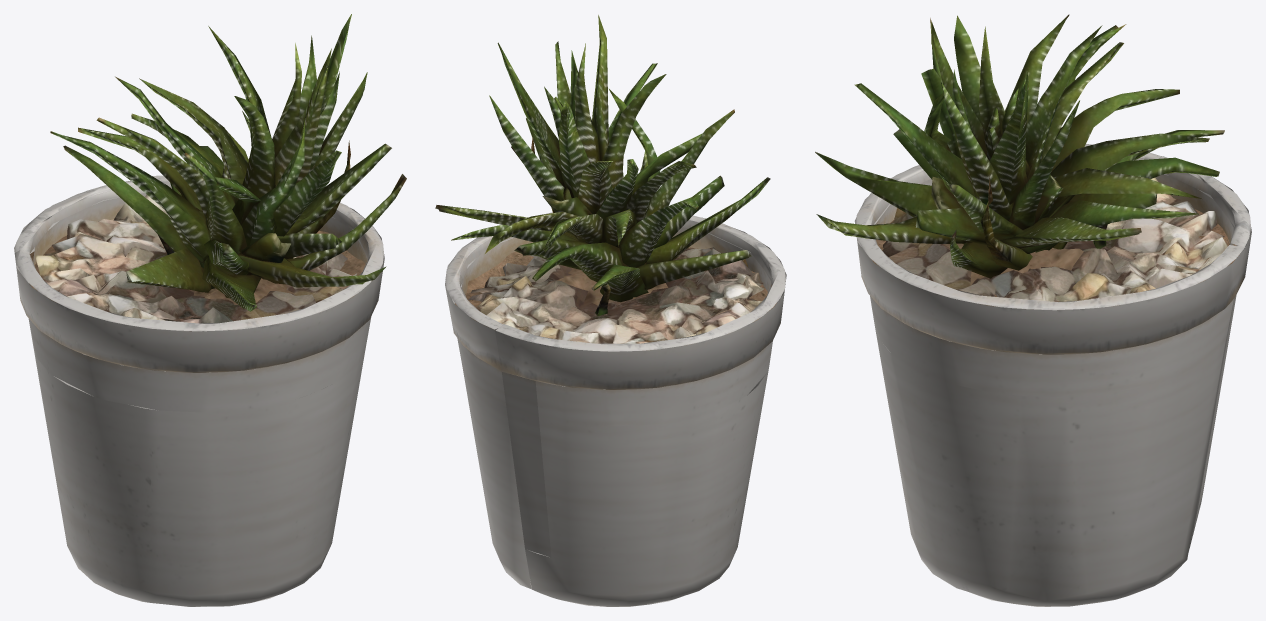
Rendered from fu_plant_aloe.fbx.
3 views of the same model, side by side, from view 1: azimuth 30°, elevation 25°; view 2: azimuth 150°, elevation 25°; view 3: azimuth 270°, elevation 25° (orthographic). The views are drawn at different scales.
Visible parts, largest first — view 1: fu_plant_aloe_LOD0; view 2: fu_plant_aloe_LOD0; view 3: fu_plant_aloe_LOD0.
Boxes of the visible parts, x1=… form: fu_plant_aloe_LOD0: x1=14, y1=14, x2=406, y2=606; fu_plant_aloe_LOD0: x1=435, y1=15, x2=786, y2=606; fu_plant_aloe_LOD0: x1=815, y1=14, x2=1251, y2=606.
Size of what is drawn, in the model's own units: 0.1677 by 0.2674 by 0.1845.
